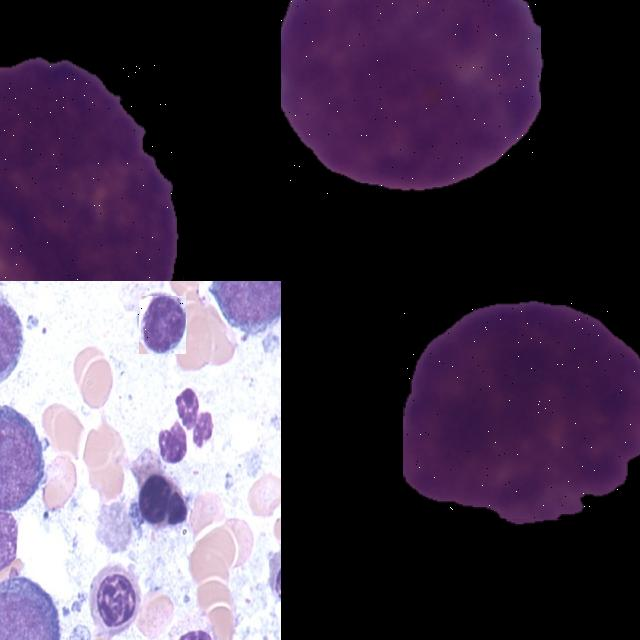ALL Negative Cells: (404, 297, 640, 519), (281, 0, 541, 194)
ALL Positive Cell: (0, 56, 183, 281), (0, 405, 42, 504), (137, 296, 185, 354), (0, 293, 24, 385), (159, 418, 190, 466), (0, 505, 17, 574)
